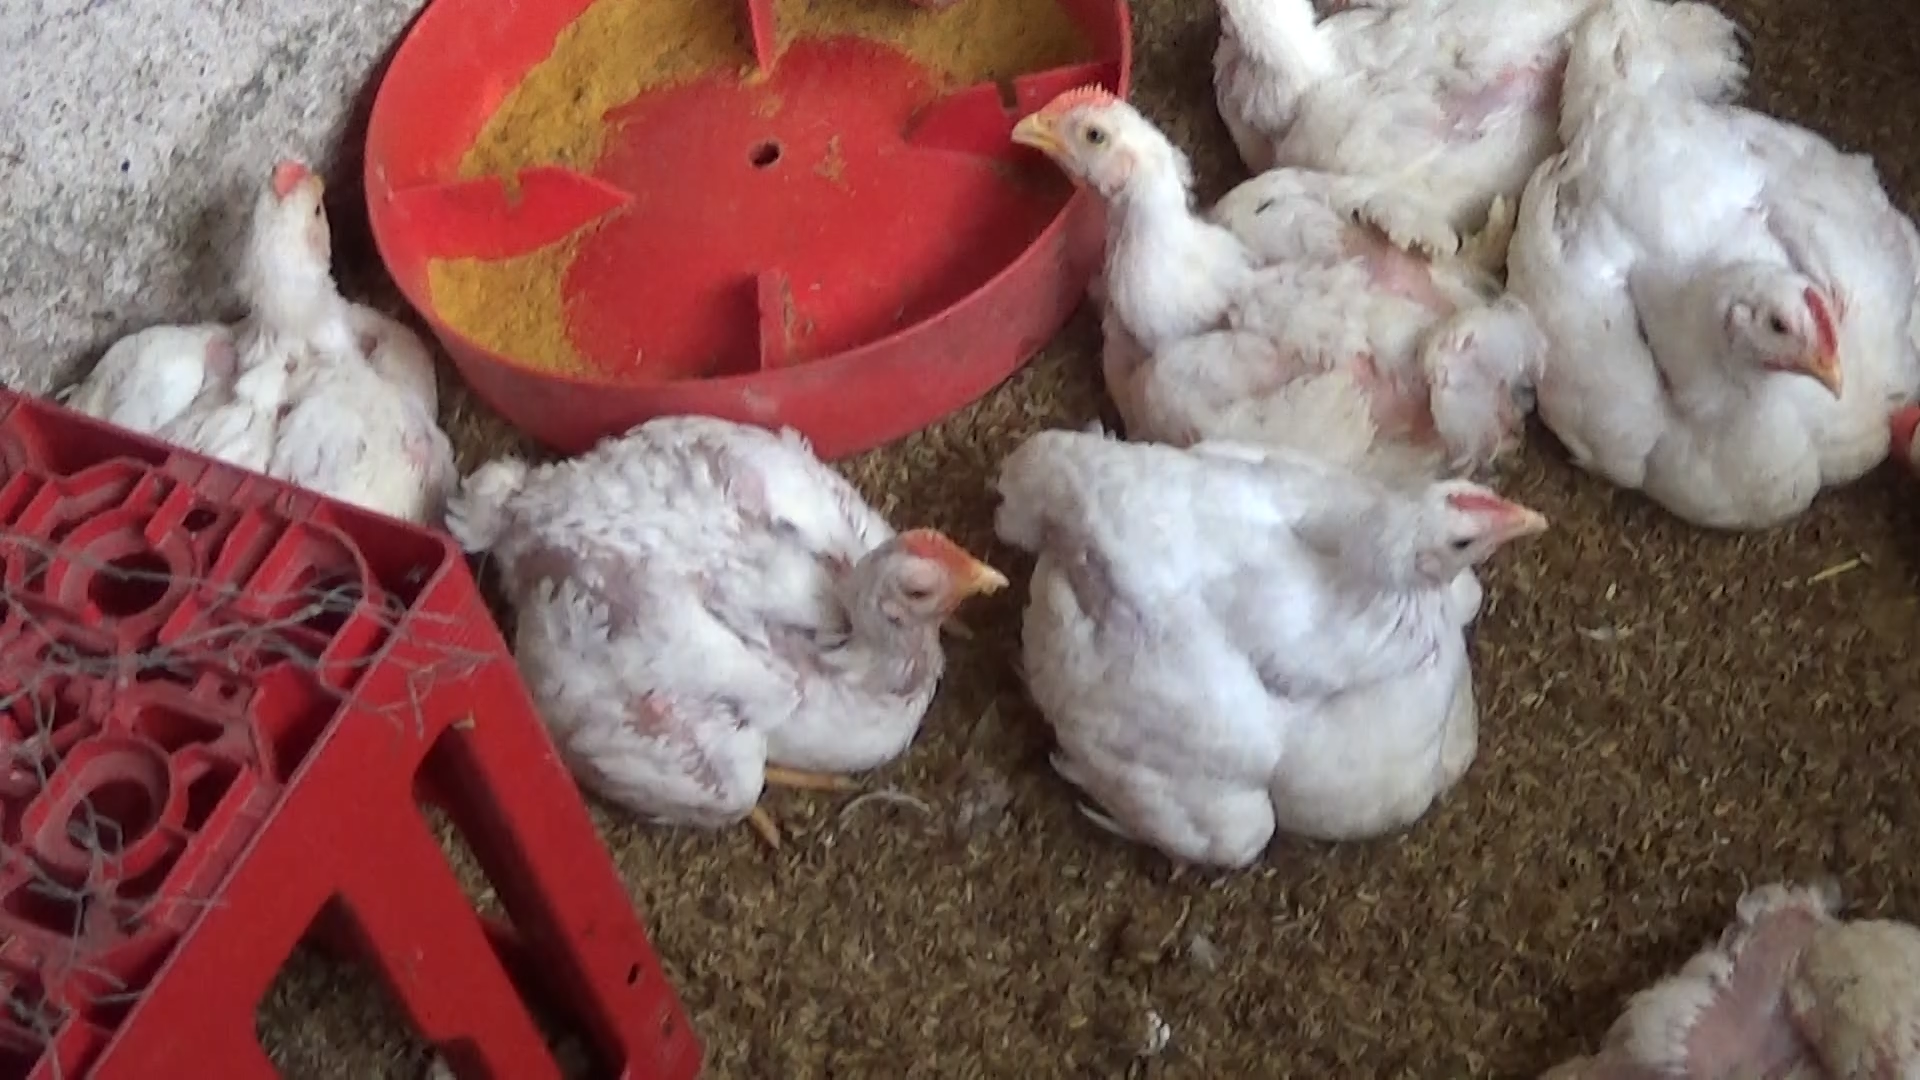Pollos: (444, 388, 1029, 864), (1015, 434, 1572, 862), (1019, 76, 1540, 477), (1526, 0, 1917, 524), (55, 144, 454, 541), (1178, 0, 1656, 225)
